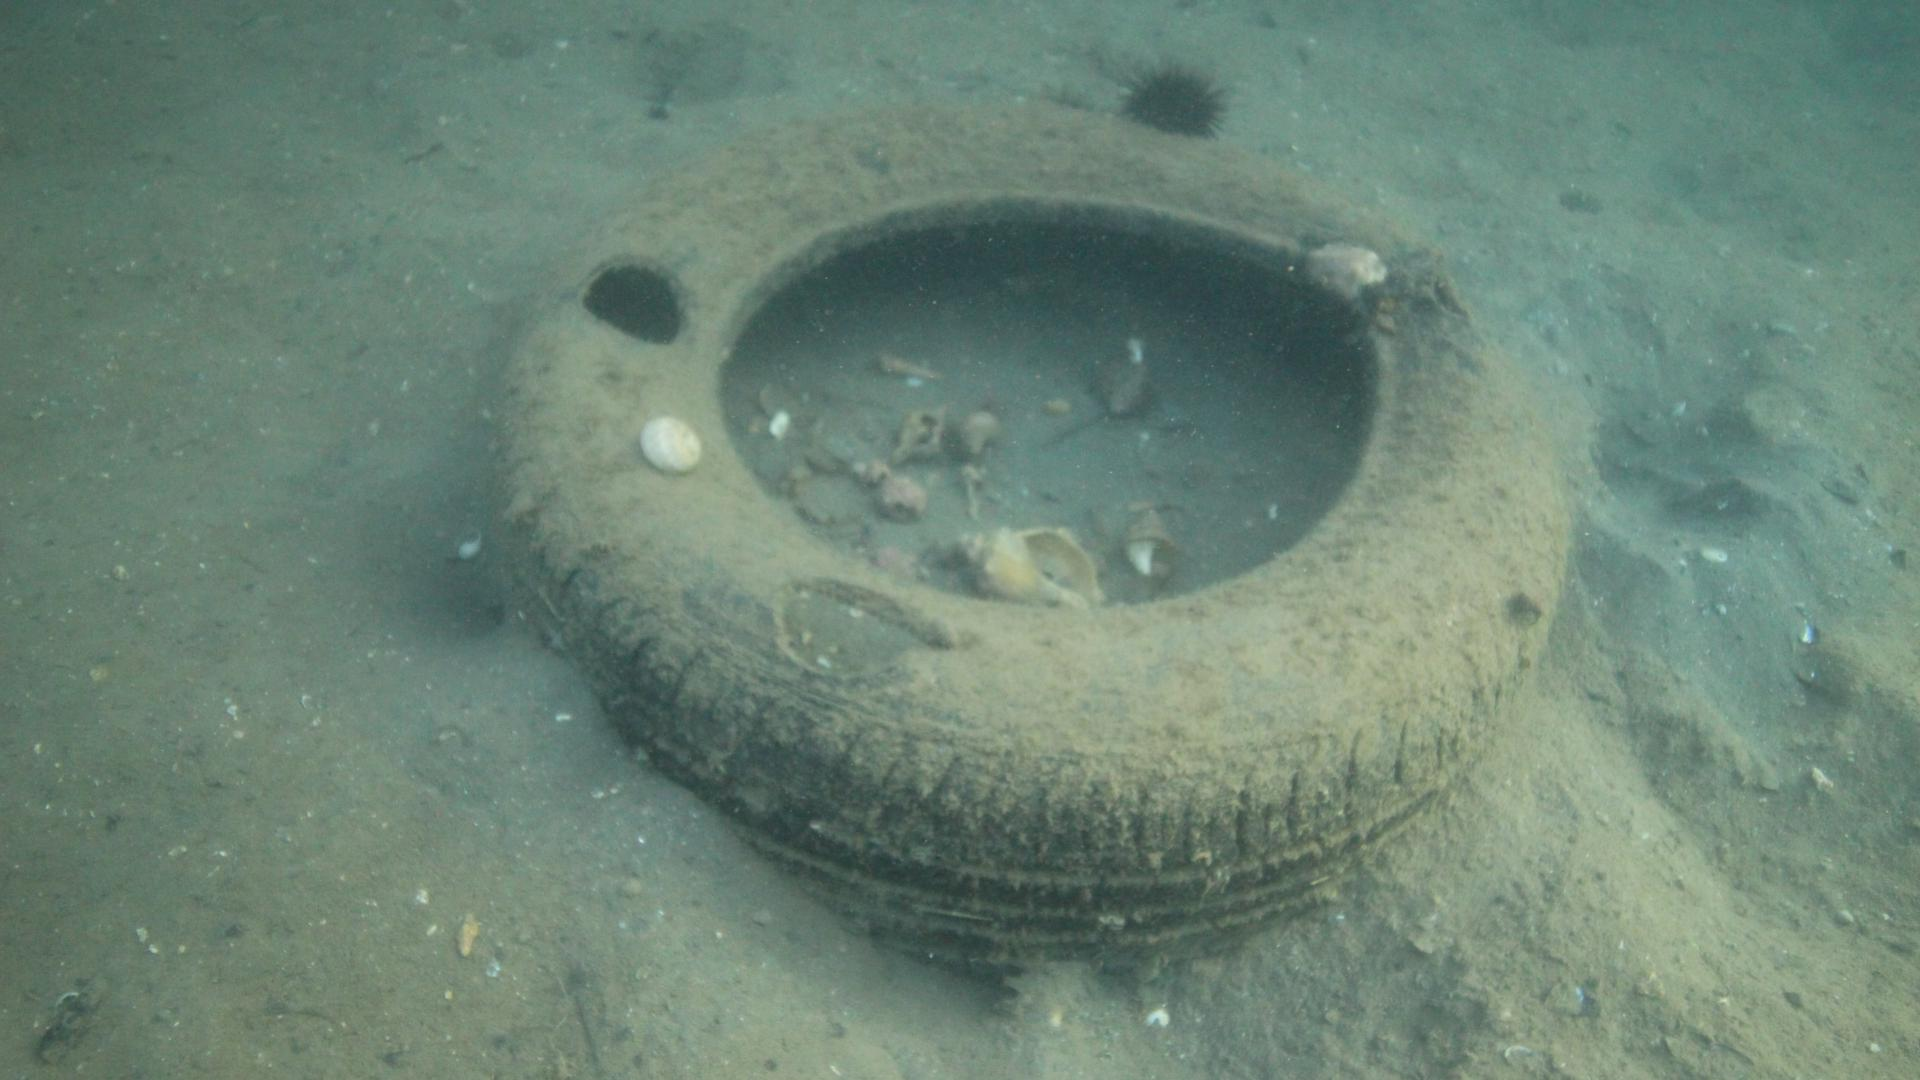tire: (492, 98, 1567, 992)
